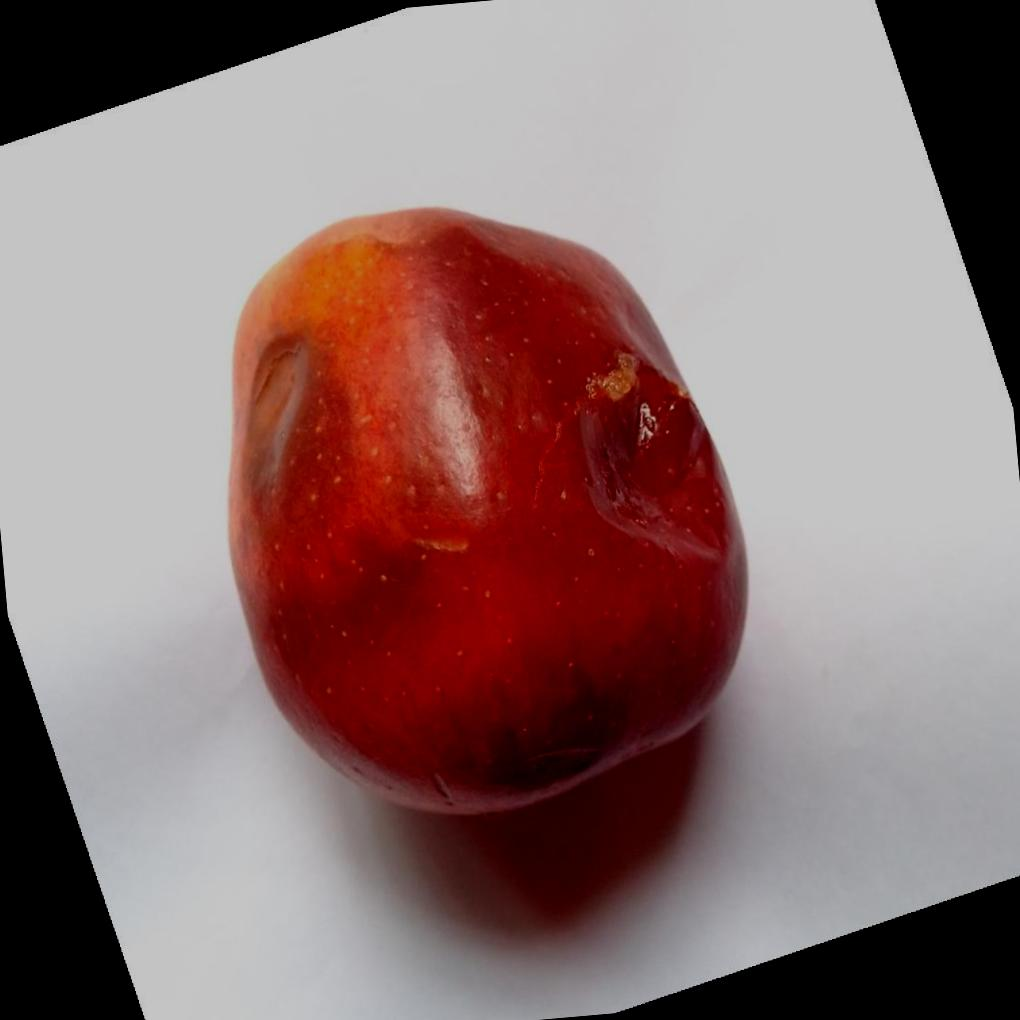FreshOrange: (225, 208, 751, 822)
